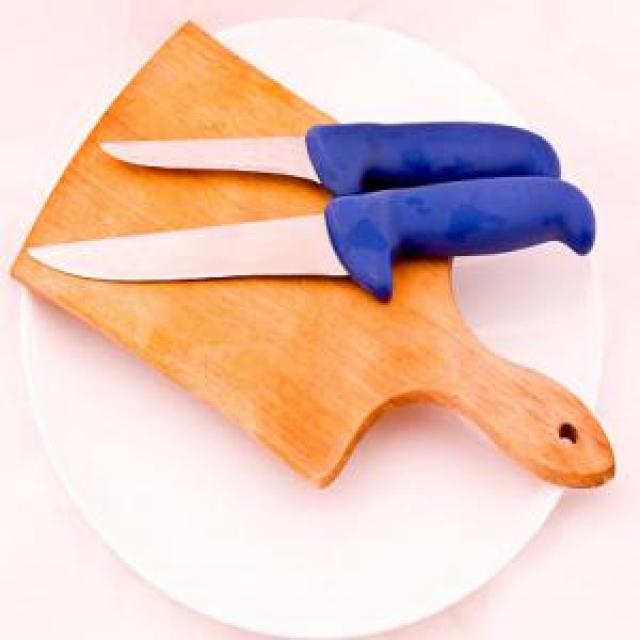knife: (28, 175, 600, 304), (96, 120, 566, 186)
